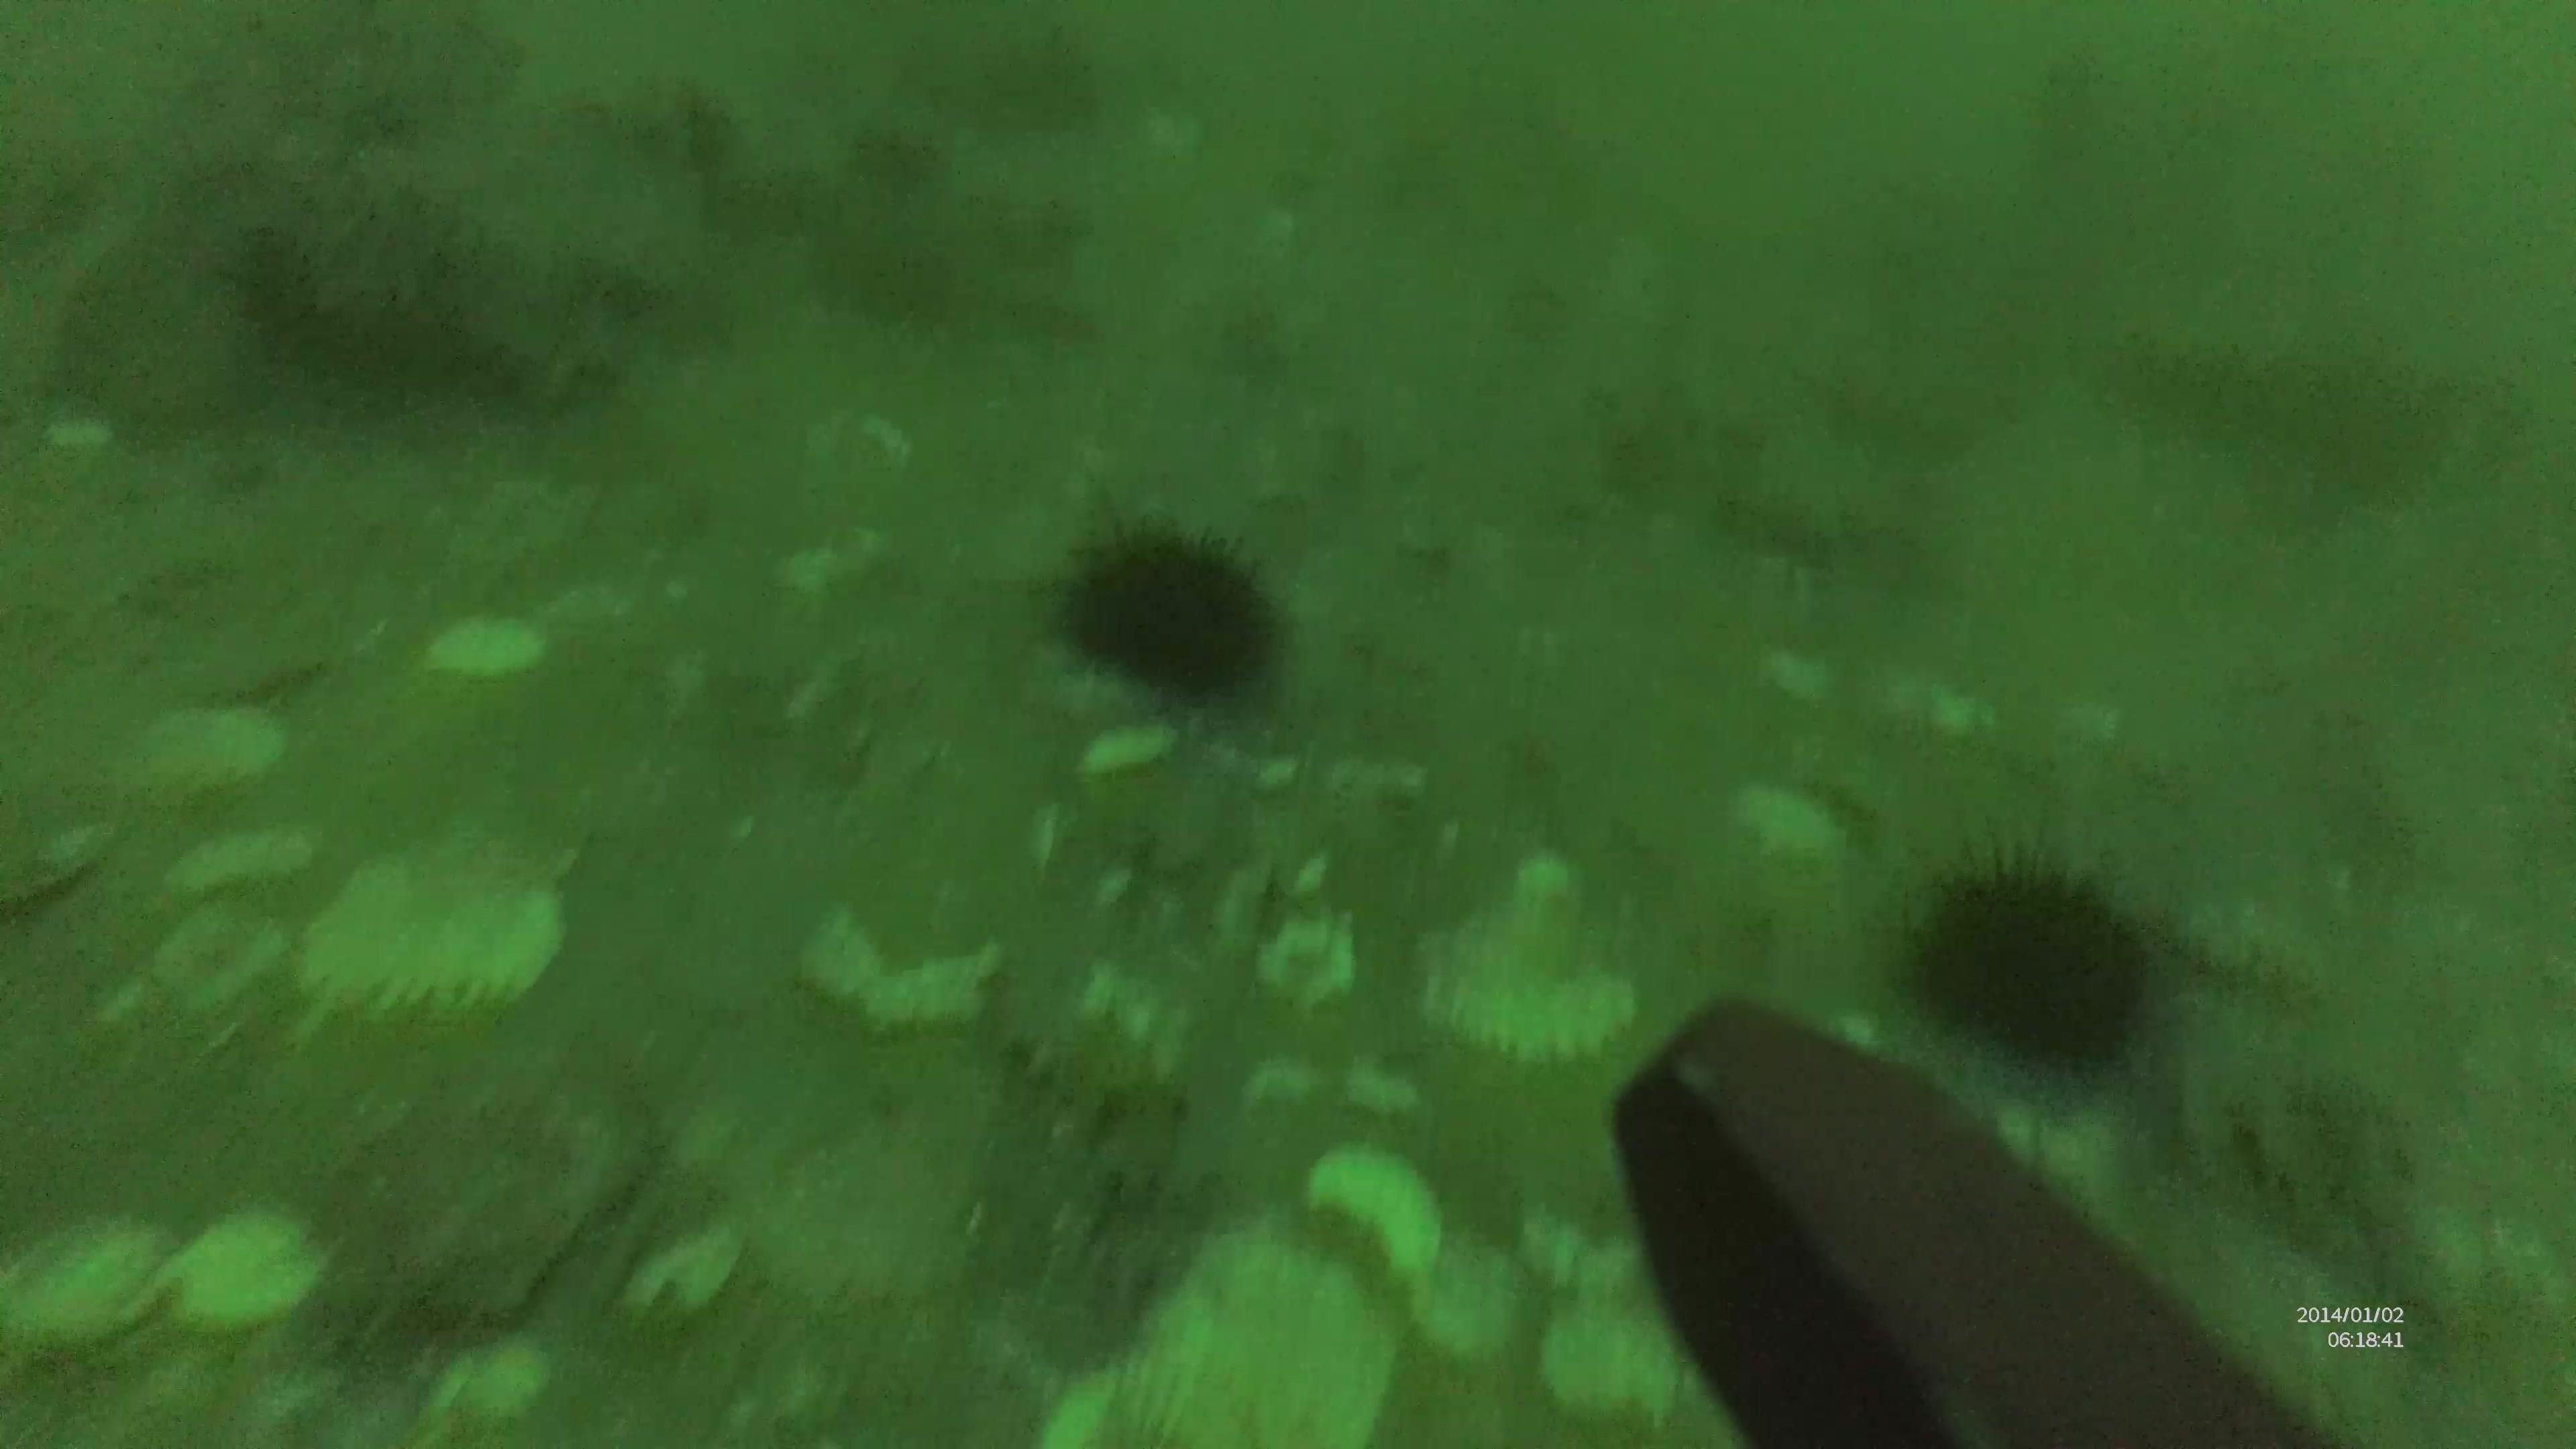echinus: (1884, 842, 2174, 1095), (1037, 515, 1299, 708)
scallop: (310, 830, 566, 1044), (1424, 893, 1647, 1063)
